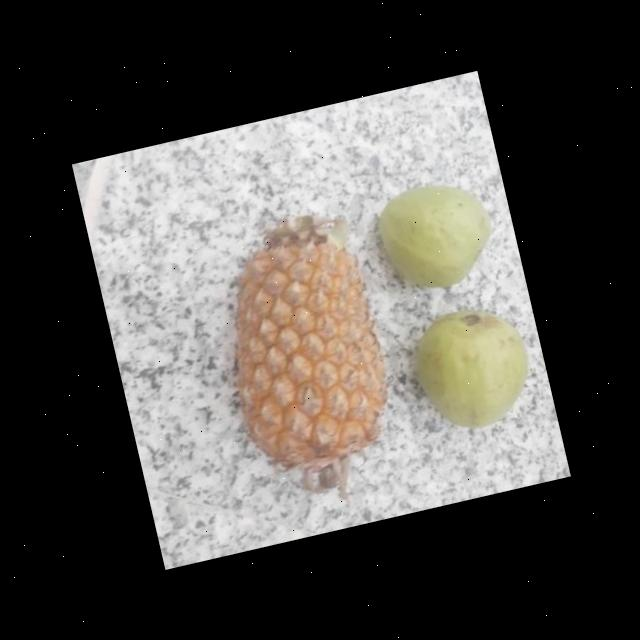guava: (409, 296, 535, 435), (373, 170, 500, 296)
pineapple: (198, 202, 406, 490)
